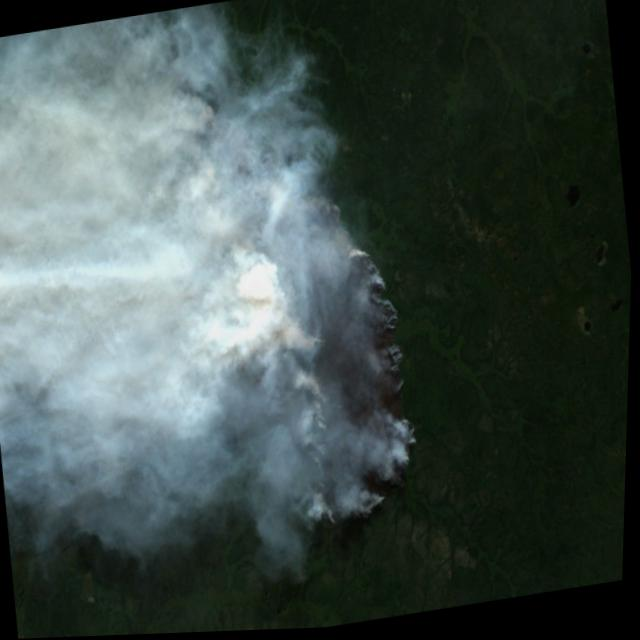fire: (160, 70, 443, 561)
